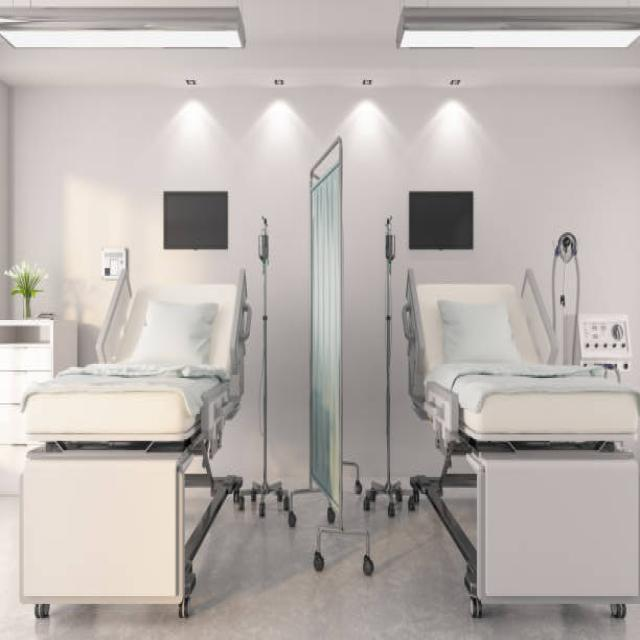bed: (402, 266, 640, 620), (18, 266, 251, 618)
